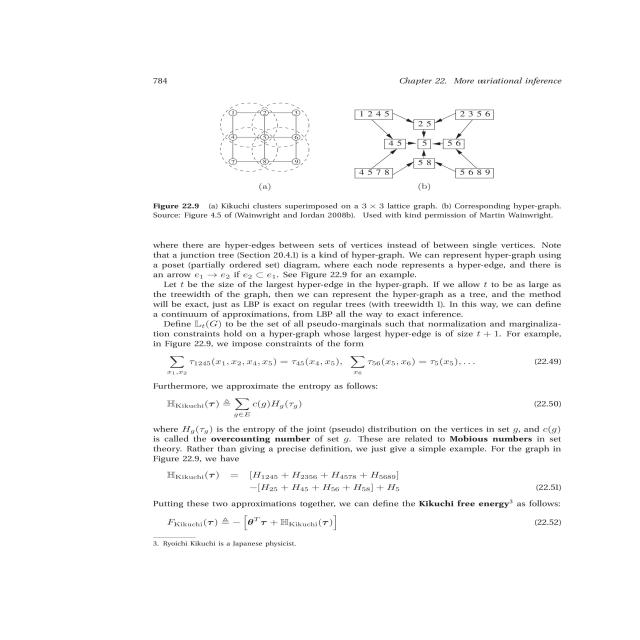diagram: (127, 92, 616, 235)
